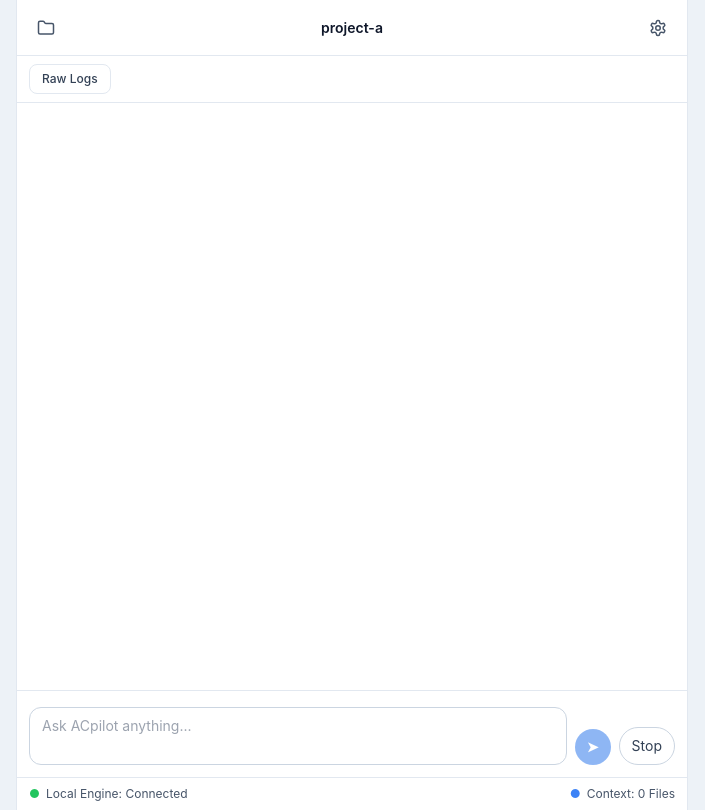
Scenario: AppShell sidebar › opens the raw logs panel for the current session
Step 1. Click the button "Raw Logs" → (70, 79), box top-left (29, 64), bottom-right (111, 94)
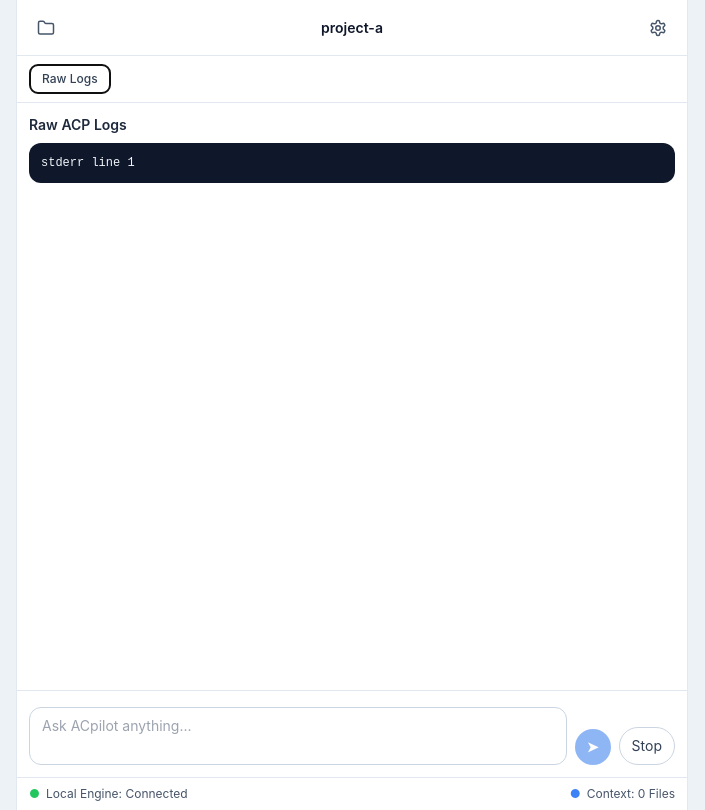
Expected: the heading "Raw ACP Logs" is shown, top-left (29, 116), bottom-right (127, 133)
Expected: the text "stderr line 1" is shown, top-left (29, 143), bottom-right (675, 183)
